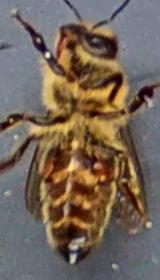varroa_mite: (81, 152, 115, 191), (37, 150, 59, 184)
